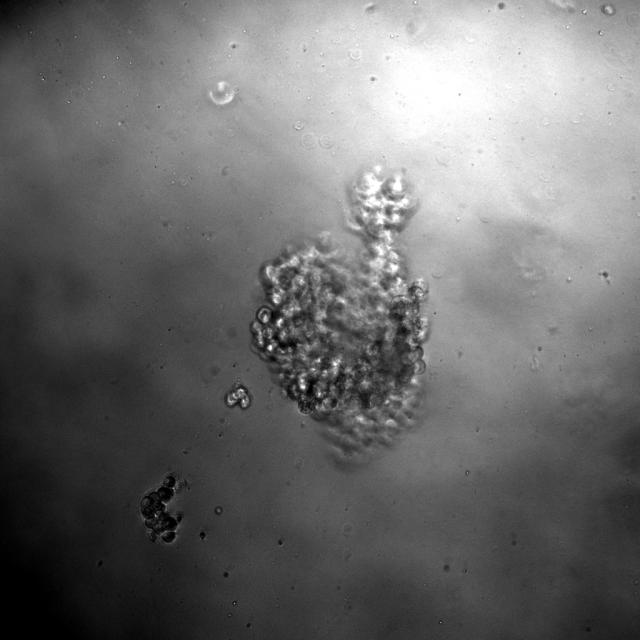organoid: (249, 158, 434, 473), (224, 382, 251, 409)
